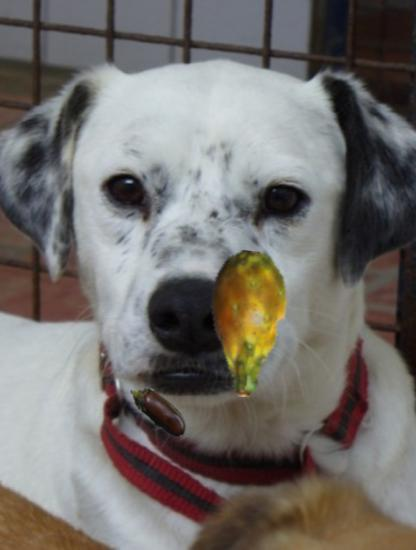Cactus: (174, 251, 320, 397)
Eggplant: (123, 375, 195, 447)
